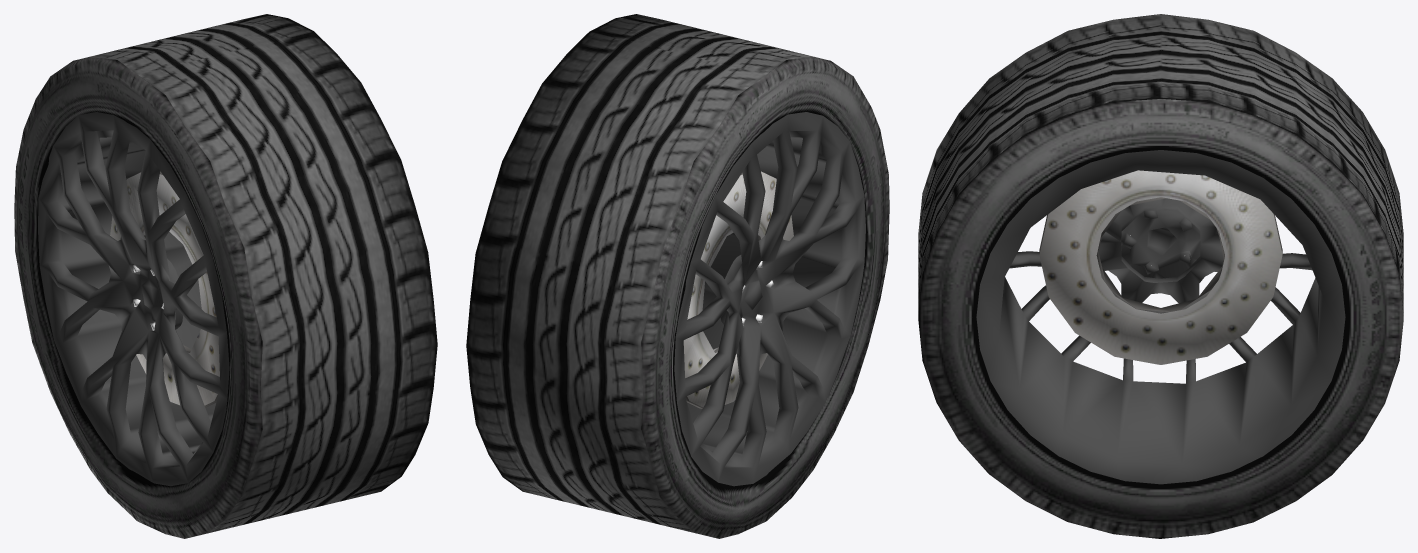
File: XZ_wheel_d3.obj
3 views of the same model, side by side, from view 1: azimuth 30°, elevation 25°; view 2: azimuth 150°, elevation 25°; view 3: azimuth 270°, elevation 25° (orthographic).
Visible parts, largest first — view 1: XZ_wheel_XZ_wheel_DefaultMaterial; view 2: XZ_wheel_XZ_wheel_DefaultMaterial; view 3: XZ_wheel_XZ_wheel_DefaultMaterial.
Part boxes in pixels (left/top/right/bottom): XZ_wheel_XZ_wheel_DefaultMaterial: left=14, top=14, right=437, bottom=538; XZ_wheel_XZ_wheel_DefaultMaterial: left=466, top=14, right=889, bottom=538; XZ_wheel_XZ_wheel_DefaultMaterial: left=918, top=14, right=1403, bottom=538.
Size of the model in its own units: 0.293 by 0.6572 by 0.6572.
Materials: 1 (1 with a texture image).
